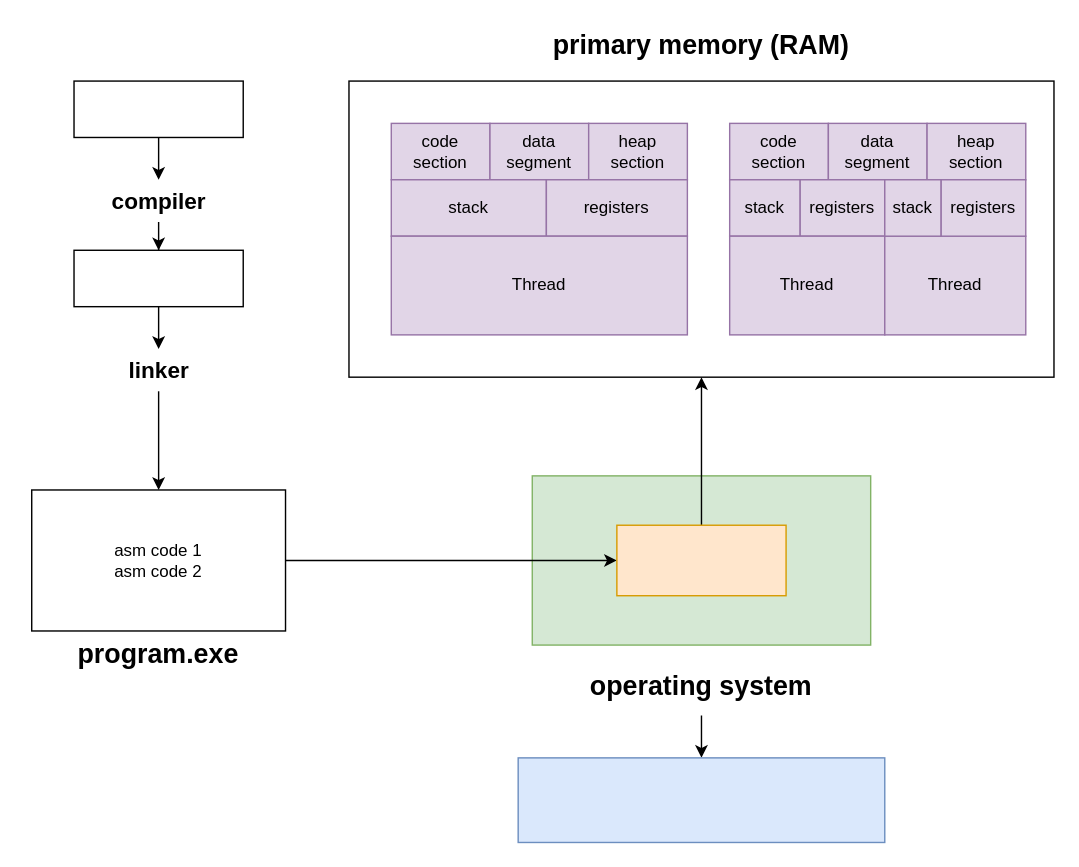
Image size: 1079x867. Some labels were removed from this diagram. The shapes that lost their labels are listed below. From the top down, each one's box as (x1, y1, x2, y2) in pixels, then its label:
(73, 80, 243, 137): program.c
(73, 249, 243, 307): .obj
(615, 524, 786, 596): Loader
(517, 756, 885, 842): H/W
